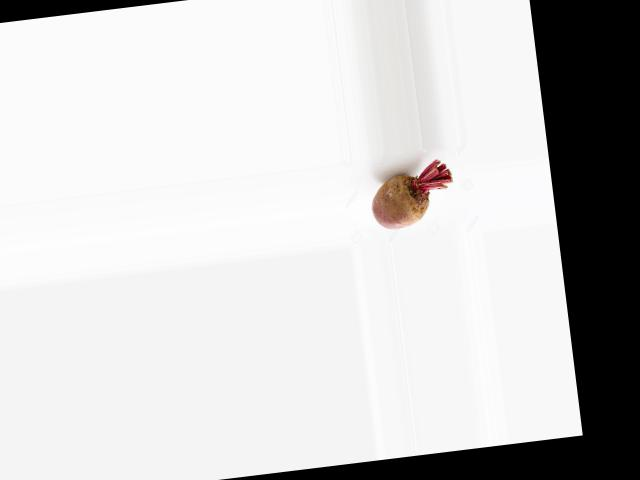beet: (366, 157, 457, 231)
